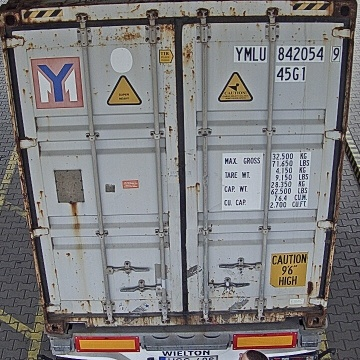serial_id: (234, 47, 341, 62)
